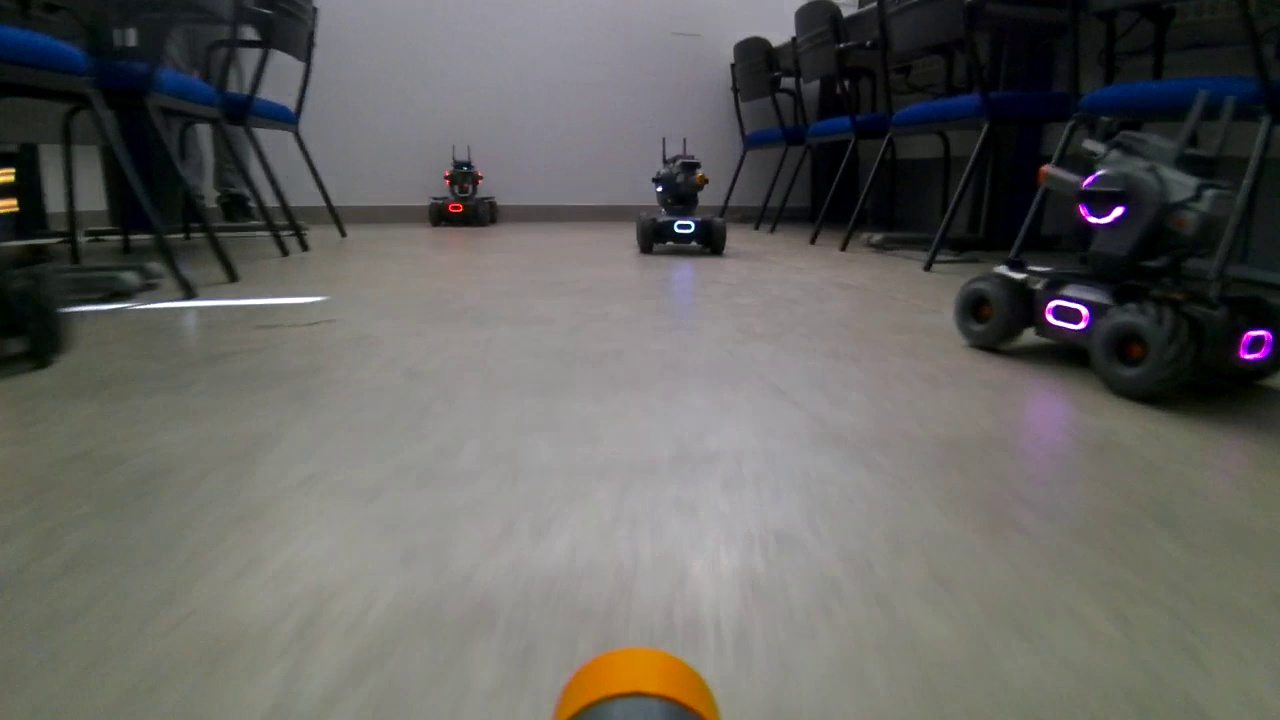robot: (950, 89, 1278, 423), (622, 135, 736, 263), (426, 144, 506, 233)
